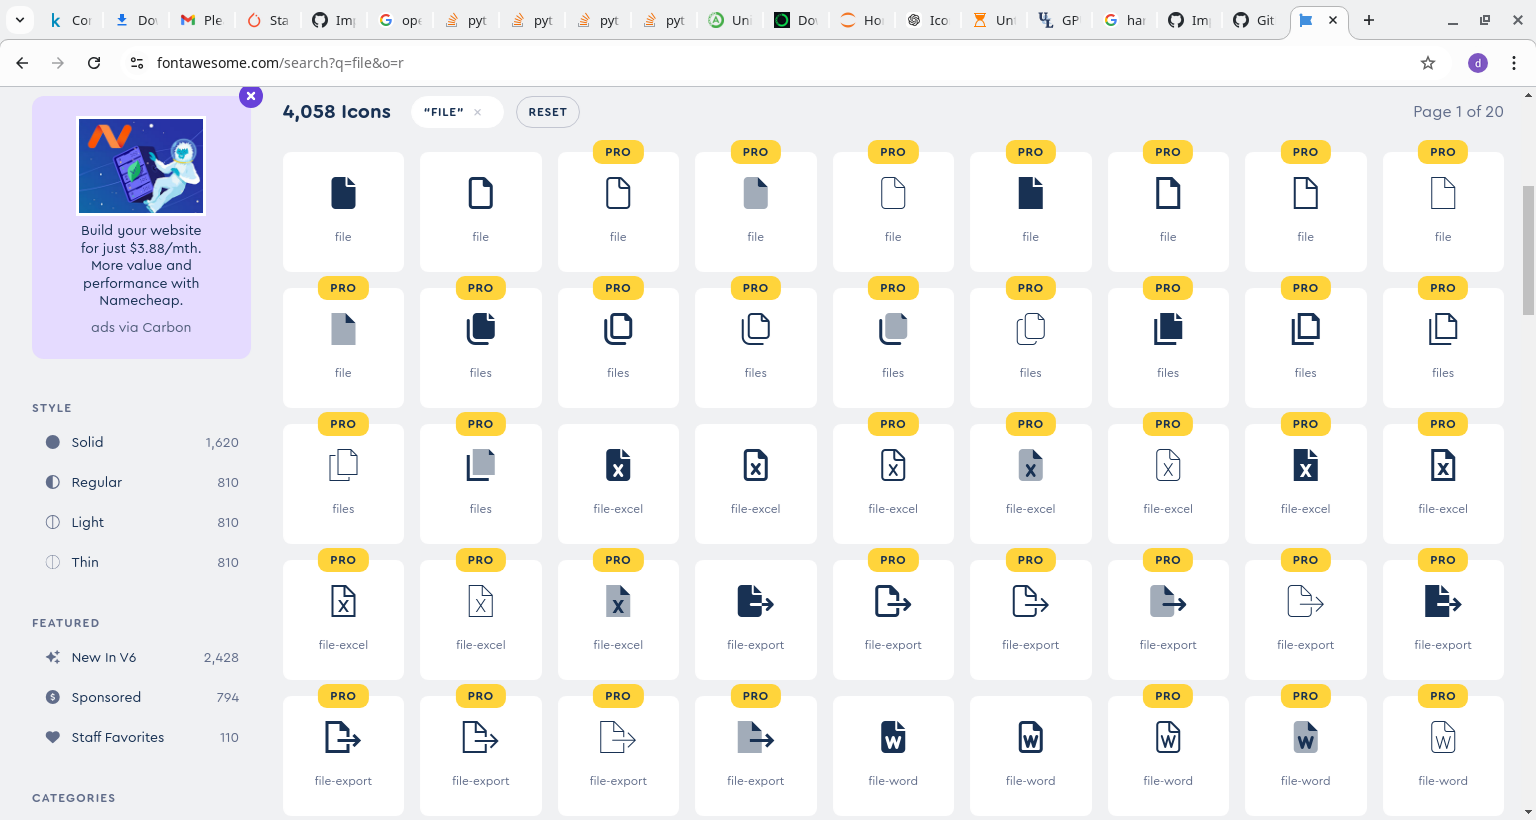file: (320, 171, 370, 215), (457, 168, 499, 216), (320, 303, 362, 351), (1006, 168, 1048, 212), (595, 173, 637, 214), (1423, 169, 1462, 213), (735, 173, 773, 217), (1147, 169, 1185, 213), (1285, 173, 1324, 215), (876, 173, 909, 214)
